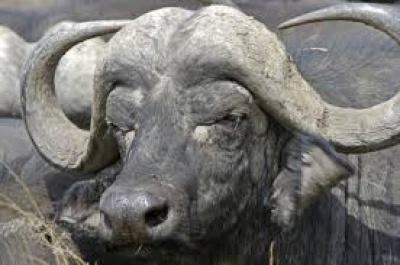buffalo: (23, 0, 399, 264)
